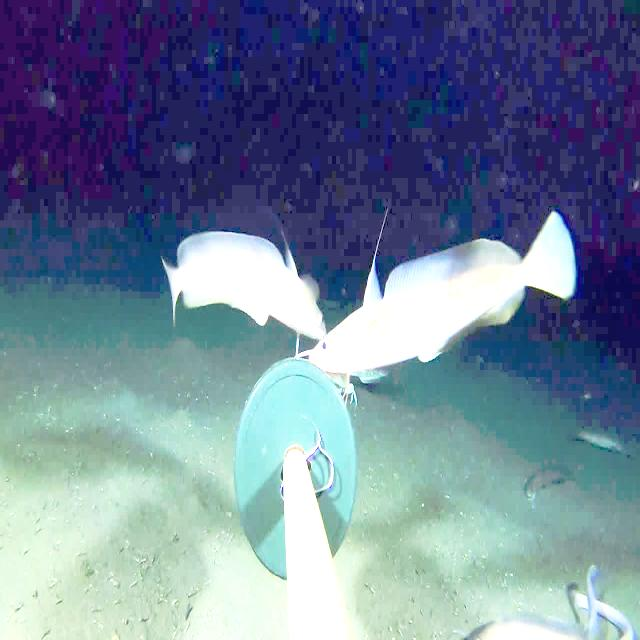eel: (567, 549, 633, 640)
fish: (280, 175, 597, 419), (158, 226, 329, 341), (457, 600, 574, 640), (572, 410, 630, 468), (522, 453, 578, 511)
pole: (231, 360, 359, 639)
